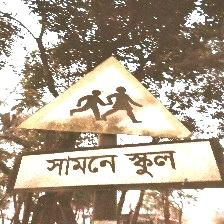School-in-front: (12, 55, 217, 186)
